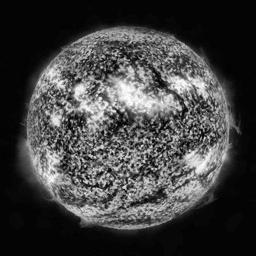solar flares: (113, 78, 151, 114), (185, 152, 210, 173), (165, 74, 188, 91), (155, 96, 179, 112), (79, 100, 99, 117), (48, 69, 63, 87), (72, 82, 87, 98), (191, 76, 203, 92), (48, 112, 60, 127)
sunspots: (108, 40, 142, 65), (147, 67, 163, 95), (141, 186, 167, 202), (91, 62, 110, 81), (159, 117, 176, 134), (65, 113, 87, 125), (113, 119, 130, 134), (175, 138, 193, 147)
